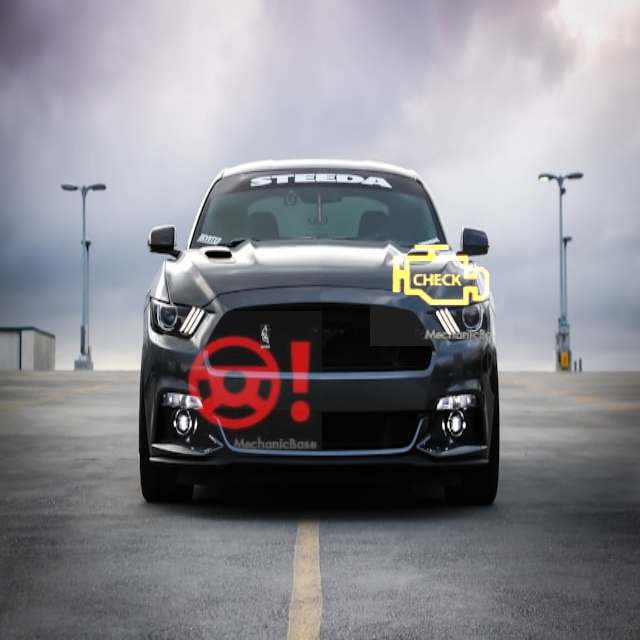symbol: (177, 311, 322, 456), (370, 205, 511, 346)
